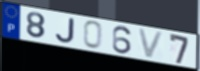0: (82, 20, 106, 50)
6: (112, 24, 133, 55)
7: (169, 32, 190, 65)
8: (26, 12, 47, 39)
J: (54, 17, 76, 44)
V: (136, 27, 166, 60)
